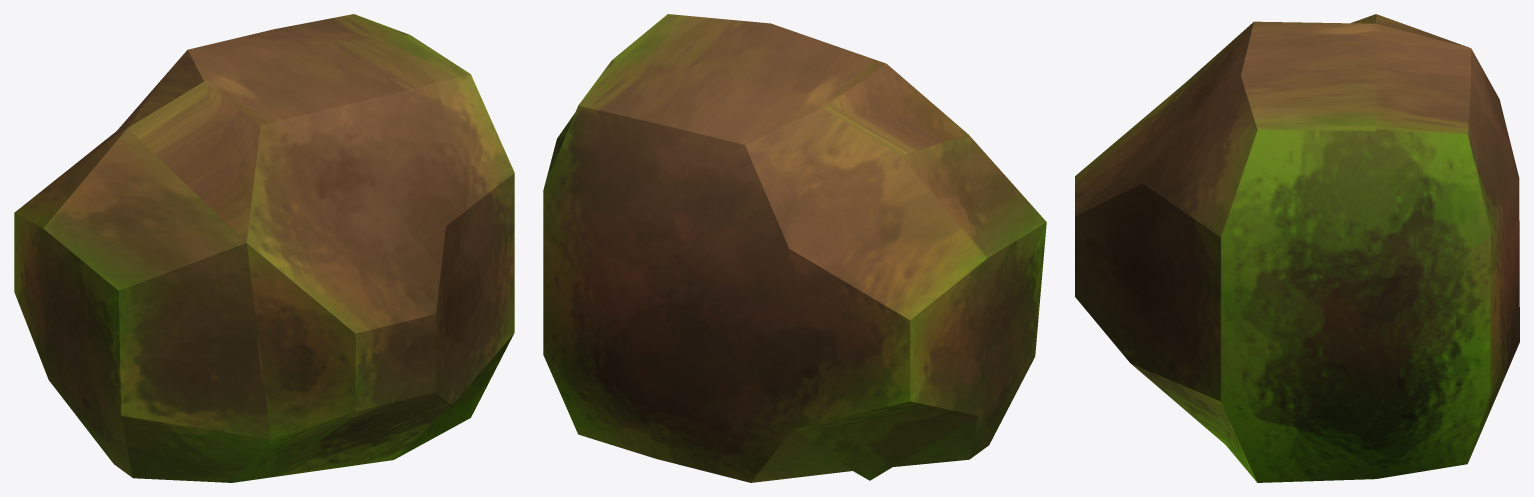
File: Rocas05.fbx
3 views of the same model, side by side, from view 1: azimuth 30°, elevation 25°; view 2: azimuth 150°, elevation 25°; view 3: azimuth 270°, elevation 25° (orthographic). The views are drawn at different scales.
Visible parts, largest first — view 1: Roca5; view 2: Roca5; view 3: Roca5.
Boxes of the visible parts, box(x1,y1,x2,y2) form: Roca5: box(14, 14, 514, 482); Roca5: box(543, 14, 1046, 482); Roca5: box(1075, 14, 1519, 482).
Bounding box in the file's own units: 229 × 191 × 204.
